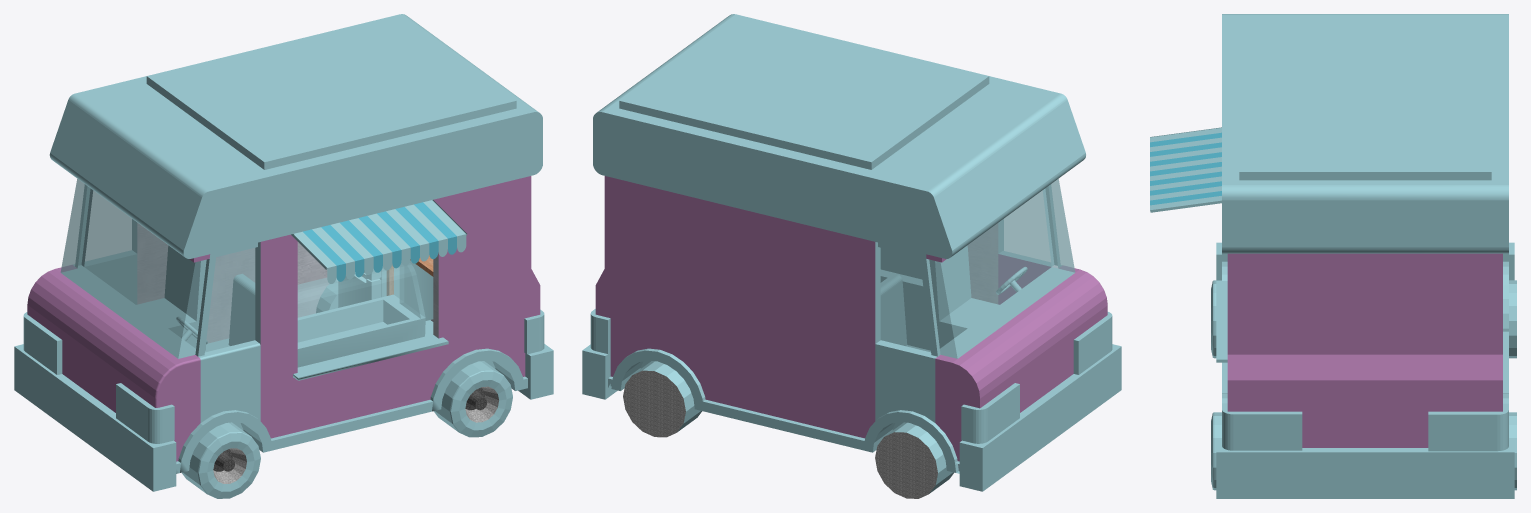
File: Van_v6.fbx
3 views of the same model, side by side, from view 1: azimuth 30°, elevation 25°; view 2: azimuth 150°, elevation 25°; view 3: azimuth 270°, elevation 25° (orthographic). The views are drawn at different scales.
Parts seen in each view (by area): view 1: Model; view 2: Model; view 3: Model.
Part boxes in pixels (x1=…): Model: x1=14, y1=14, x2=553, y2=498; Model: x1=582, y1=14, x2=1121, y2=498; Model: x1=1150, y1=14, x2=1516, y2=498.
Size of the model in its own units: 432 by 326 by 320.
17 materials, 17 textured.
